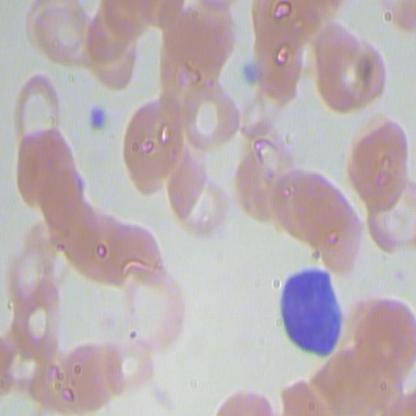Platelets: (86, 96, 113, 136), (237, 55, 258, 88)
RBC: (344, 113, 413, 218), (122, 93, 189, 195), (116, 264, 190, 356), (94, 209, 168, 301), (62, 194, 135, 286), (24, 148, 90, 237), (9, 118, 75, 206), (353, 290, 415, 381), (1, 215, 66, 301), (177, 77, 244, 156), (163, 152, 230, 231), (174, 172, 241, 251), (311, 186, 368, 277), (291, 161, 348, 252), (235, 135, 292, 226), (338, 29, 395, 120), (311, 23, 368, 114), (359, 166, 415, 257), (267, 153, 323, 244), (253, 13, 309, 104), (62, 331, 119, 408), (9, 277, 66, 354), (11, 66, 68, 143), (31, 4, 96, 70), (73, 11, 138, 77), (82, 27, 146, 93), (215, 378, 276, 415)
WBC: (274, 262, 352, 364)
